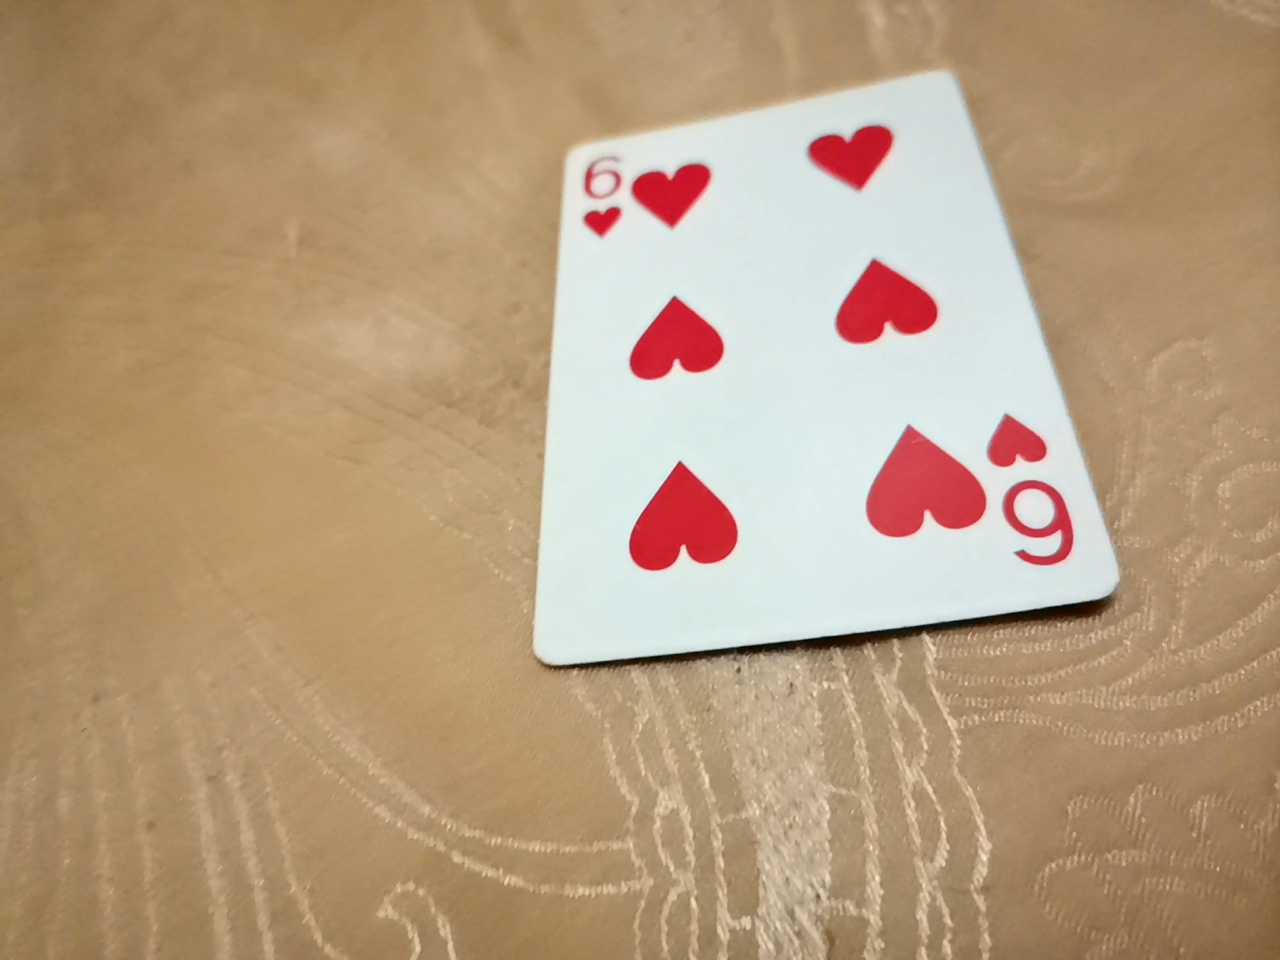hx 6: (574, 0, 1159, 543)
